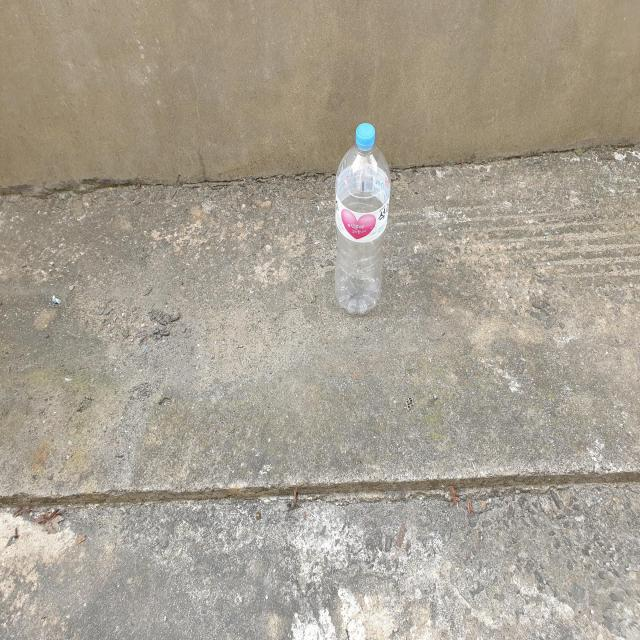plastic: (335, 122, 391, 314)
